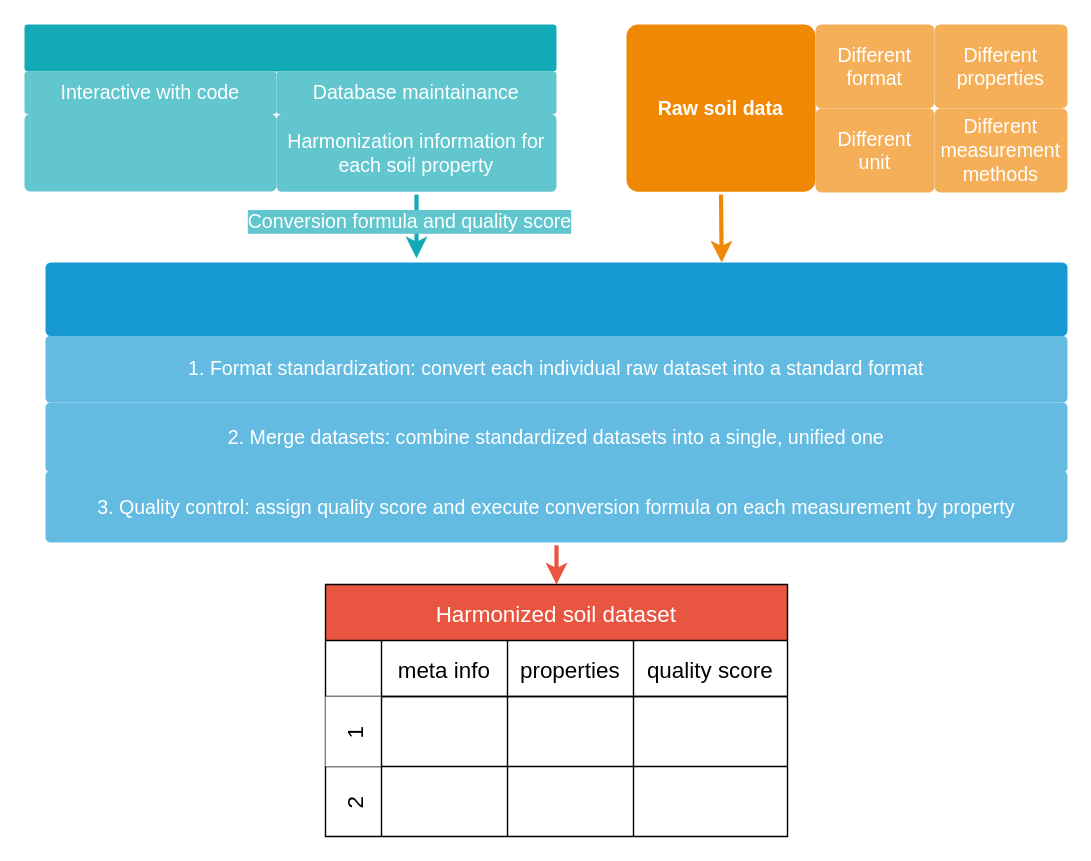
The diagram is 1091 pixels wide and 861 high, and some of its shapes have lost their labels. The shapes that lost their labels are listed below. From the top down, each one's centre as x and y in pixels, then its label:
At pixel 290 47: "Harmonization sheet".
At pixel 150 152: "Overview information of each raw dataset".
At pixel 556 298: "Code Notebooks to execute and harmonization process".
